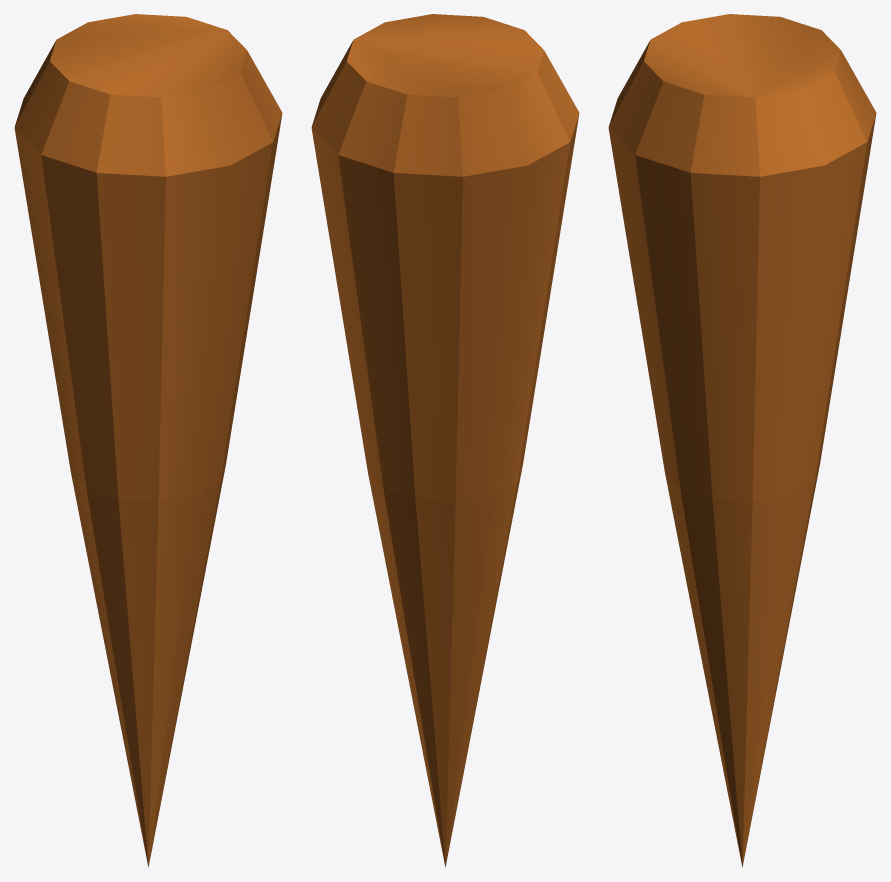
File: 2062_SeekingMissiles_MissileEngine.fbx
The picture shows the model from 3 angles, left to right: view 1: azimuth 30°, elevation 25°; view 2: azimuth 150°, elevation 25°; view 3: azimuth 270°, elevation 25°; orthographic projection.
Visible parts, largest first — view 1: PART_MissileOrangeExhaust; view 2: PART_MissileOrangeExhaust; view 3: PART_MissileOrangeExhaust.
Part boxes in pixels (x1,y1,x2,y2): PART_MissileOrangeExhaust: [14, 14, 282, 867]; PART_MissileOrangeExhaust: [311, 14, 579, 867]; PART_MissileOrangeExhaust: [608, 14, 876, 867].
Size of the model in its own units: 18.84 by 63 by 18.84.
